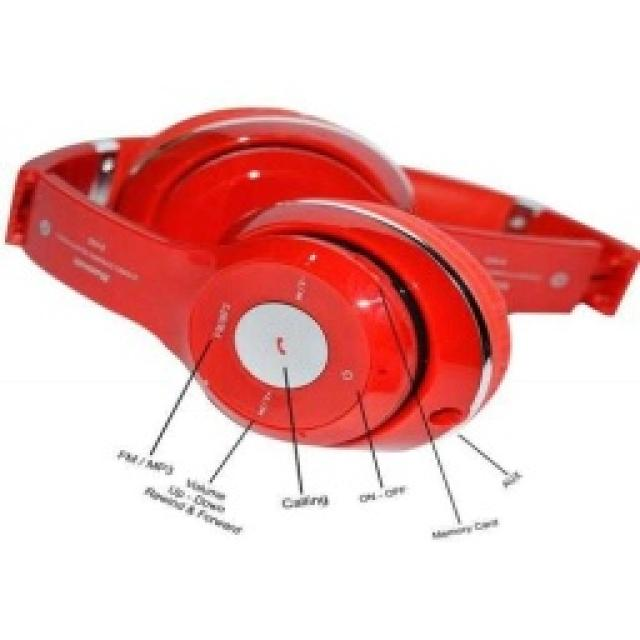headphones: (2, 102, 638, 452)
